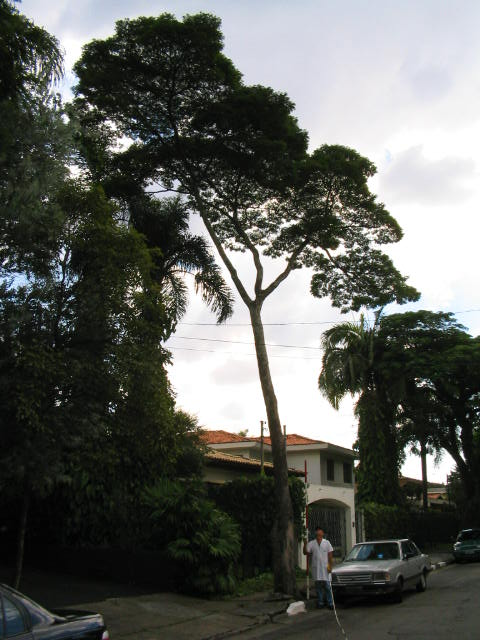crown: (80, 11, 422, 320)
stem: (239, 312, 301, 596)
stick: (301, 458, 315, 601)
tree: (79, 10, 421, 597)
